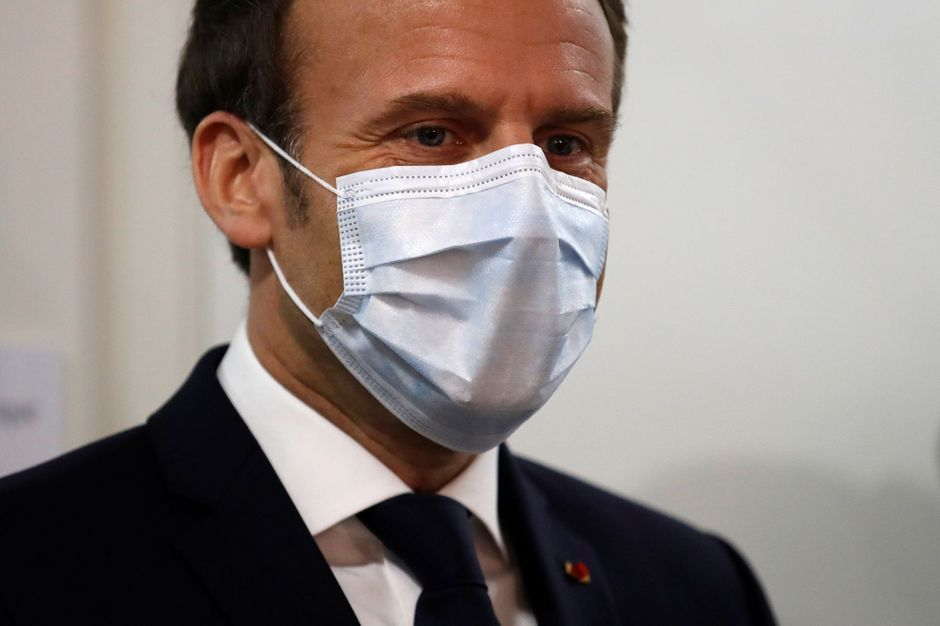with_mask: (233, 68, 631, 448)
